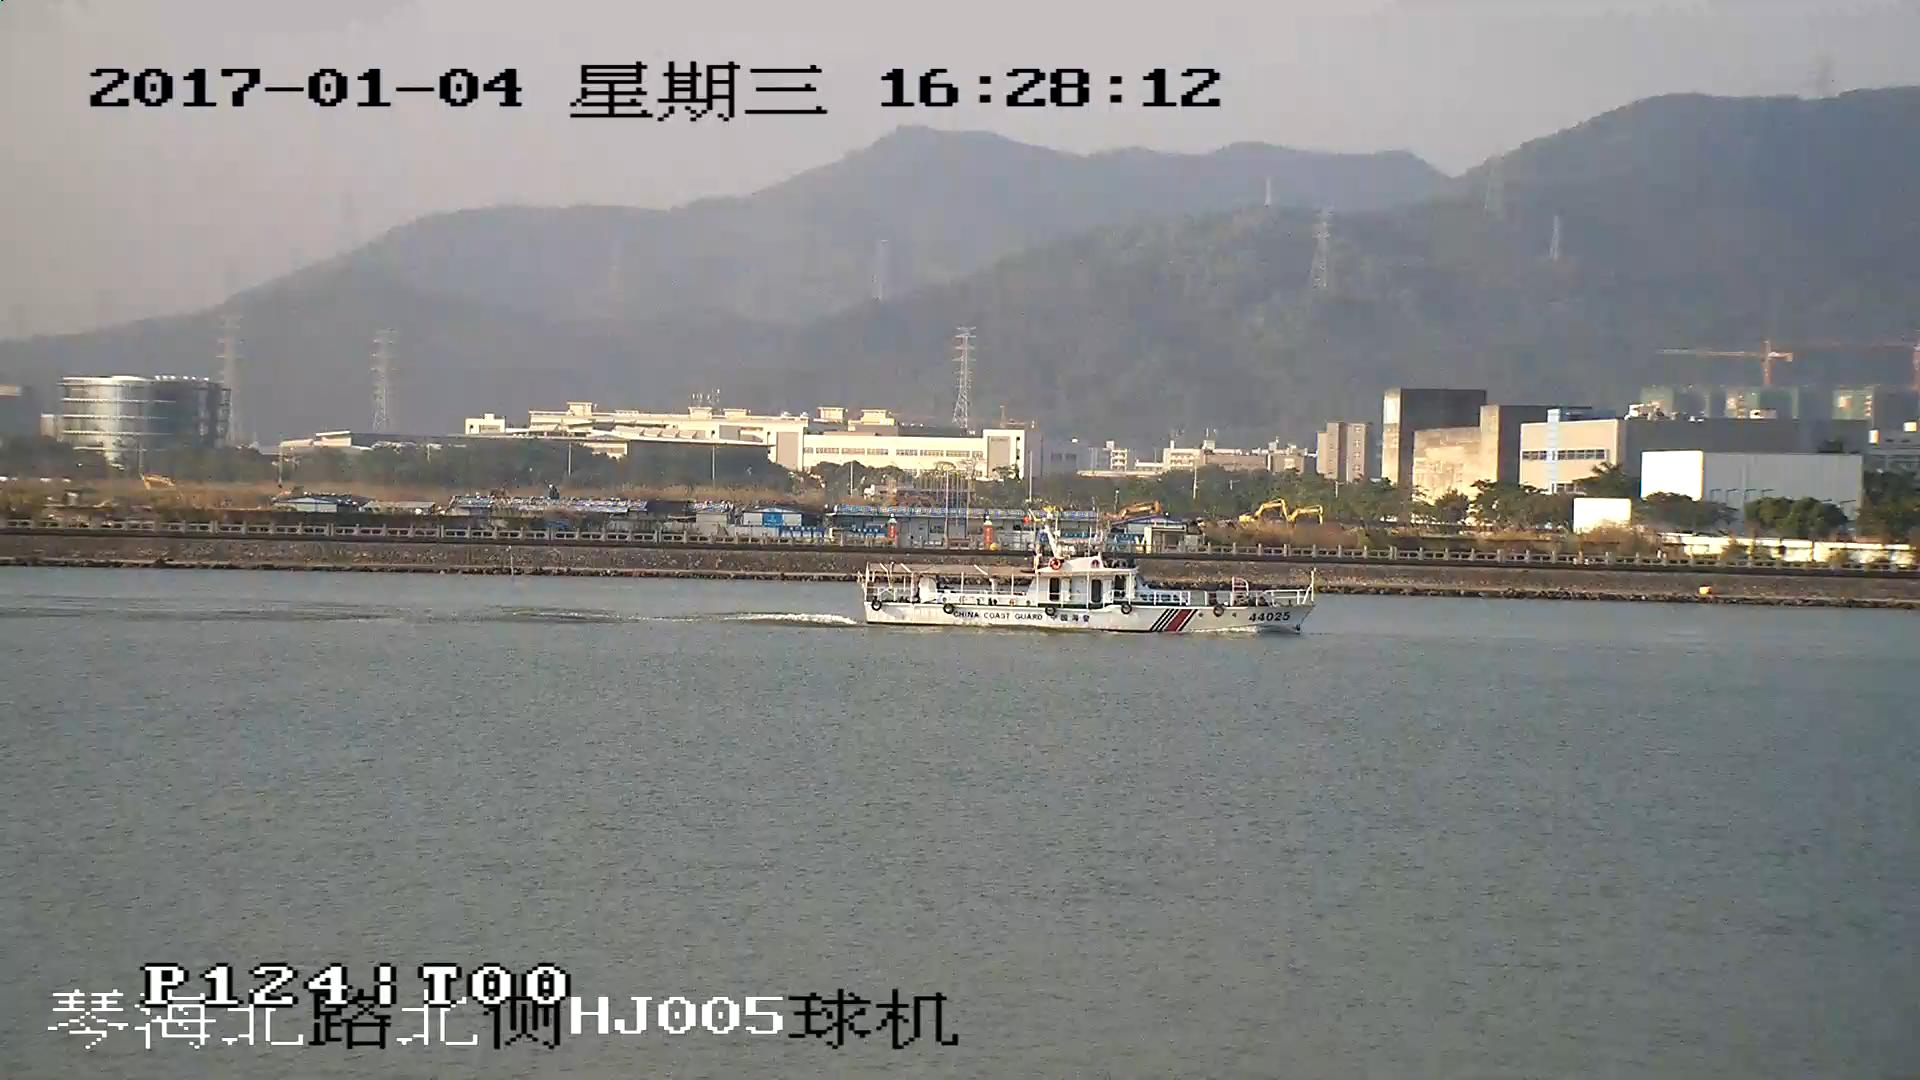passenger ship: (860, 518, 1314, 630)
